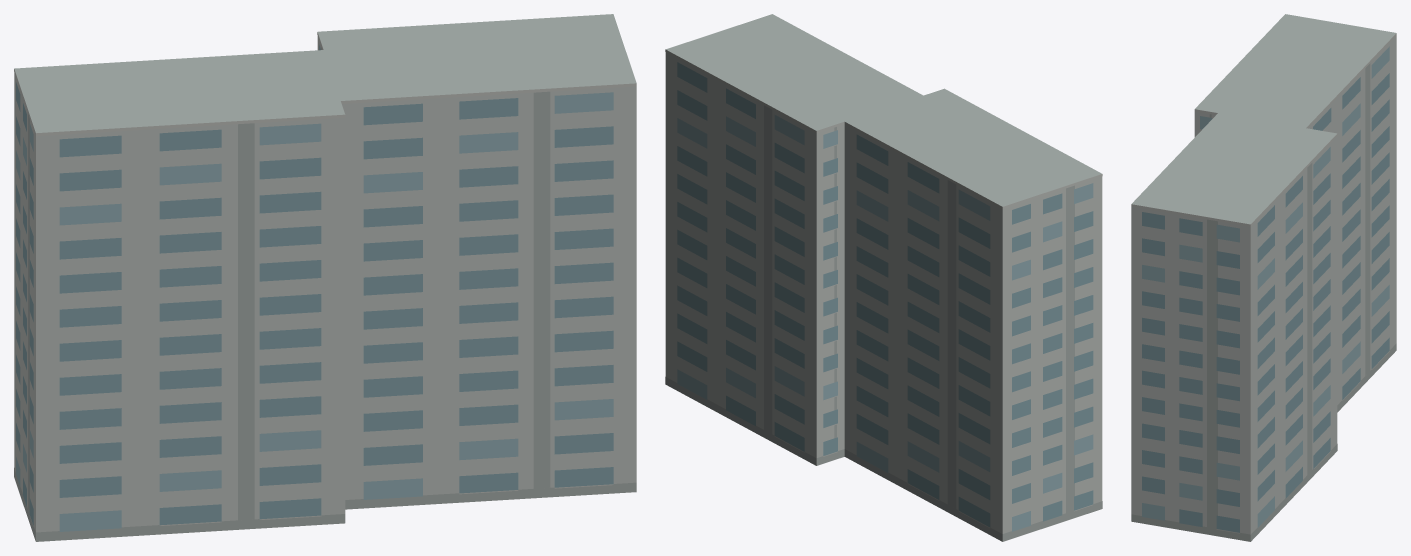
The model's file is residential-130ffc96-ca84-46ba-9bb2-f1fd683180b8.glb.
3 views of the same model, side by side, from view 1: azimuth 30°, elevation 25°; view 2: azimuth 150°, elevation 25°; view 3: azimuth 270°, elevation 25° (orthographic). The views are drawn at different scales.
Parts seen in each view (by area): view 1: residential-130ffc96-ca84-46ba-9bb2-f1fd683180b8.tmp; view 2: residential-130ffc96-ca84-46ba-9bb2-f1fd683180b8.tmp; view 3: residential-130ffc96-ca84-46ba-9bb2-f1fd683180b8.tmp.
Part boxes in pixels (x1,y1,x2,y2): residential-130ffc96-ca84-46ba-9bb2-f1fd683180b8.tmp: (14,14,636,541); residential-130ffc96-ca84-46ba-9bb2-f1fd683180b8.tmp: (665,14,1102,541); residential-130ffc96-ca84-46ba-9bb2-f1fd683180b8.tmp: (1131,14,1396,541).
Bounding box in the file's own units: 45.5 × 32 × 24.26.
